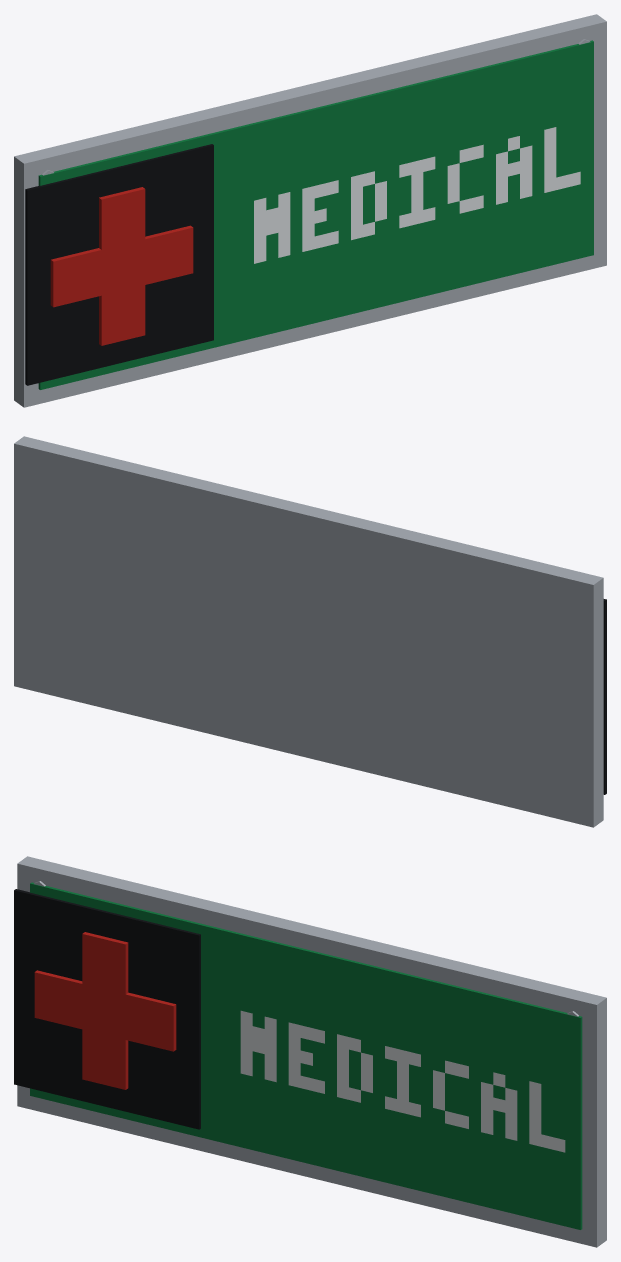
The model's file is sign_dept_medical.glb.
3 views of the same model, one above another, from view 1: azimuth 30°, elevation 25°; view 2: azimuth 150°, elevation 25°; view 3: azimuth 330°, elevation 25° (orthographic).
Visible parts, largest first — view 1: sign_dept_medical; view 2: sign_dept_medical; view 3: sign_dept_medical.
Boxes of the visible parts, bbox=[...] form: sign_dept_medical: bbox=[14, 14, 606, 407]; sign_dept_medical: bbox=[14, 436, 606, 827]; sign_dept_medical: bbox=[14, 856, 606, 1247].
Bounding box in the file's own units: 1 × 0.4 × 0.048.
